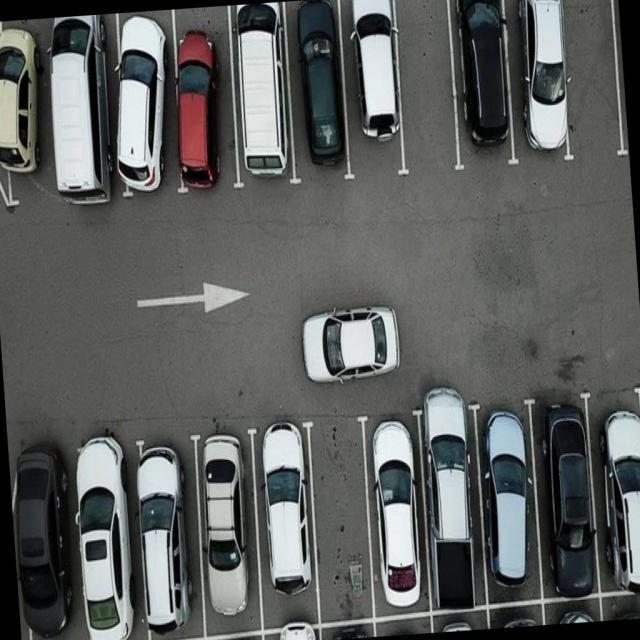car: (526, 393, 604, 598), (191, 430, 268, 634), (246, 423, 322, 628), (472, 400, 546, 610), (418, 408, 490, 618), (78, 443, 154, 640), (136, 439, 207, 638), (15, 452, 90, 640), (112, 10, 184, 203), (364, 416, 430, 616), (169, 6, 238, 196), (55, 13, 125, 198), (225, 2, 294, 187), (0, 18, 68, 204), (338, 0, 407, 183), (496, 0, 572, 166), (280, 0, 346, 191), (446, 0, 516, 173), (586, 380, 640, 590)
free: (306, 416, 378, 622), (392, 0, 457, 183), (558, 0, 620, 156)
